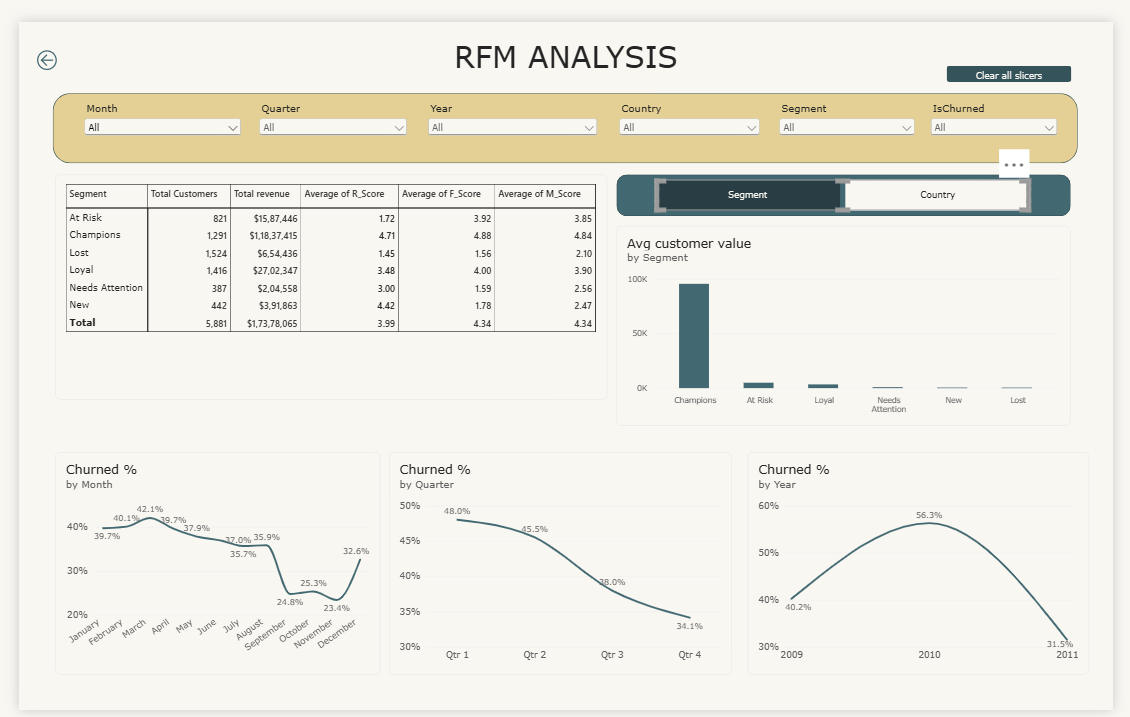

Layout of this report page (visuals, bound fields, positions):
{"tool":"powerbi","page":{"name":"RFM Analysis","canvas":[1750,1100],"ordinal":1},"visuals":[{"type":"shape","box":[54,114,1640,112],"z":0},{"type":"lineChart","fields":{"Category":["Sheet1.InvoiceDate.Variation.Date Hierarchy.Quarter"],"Y":["Sheet1.Churned %"]},"box":[592,688,548,356],"z":0,"group":"g1"},{"type":"shape","box":[956.7,243.3,726.7,66.7],"z":1000},{"type":"lineChart","fields":{"Category":["Sheet1.InvoiceDate.Variation.Date Hierarchy.Month"],"Y":["Sheet1.Churned %"]},"box":[58,688,520,356],"z":1000,"group":"g1"},{"type":"slicer","fields":{"Values":["Sheet1.InvoiceDate.Variation.Date Hierarchy.Quarter"]},"box":[380,128,246,84],"z":2000},{"type":"lineChart","fields":{"Category":["Sheet1.InvoiceDate.Variation.Date Hierarchy.Year"],"Y":["Sheet1.Churned %"]},"box":[1166,688,546,356],"z":2000,"group":"g1"},{"type":"slicer","fields":{"Values":["Sheet1.InvoiceDate.Variation.Date Hierarchy.Month"]},"box":[100,128,260,84],"z":3000},{"type":"slicer","fields":{"Values":["Sheet1.InvoiceDate.Variation.Date Hierarchy.Year"]},"box":[650,128,280,84],"z":4000},{"type":"slicer","fields":{"Values":["Sheet1.Country"]},"box":[956,128,234,84],"z":5000},{"type":"slicer","fields":{"Values":["Sheet1.Segment"]},"box":[1212,128,226,60],"z":6000},{"type":"slicer","fields":{"Values":["Sheet1.IsChurned"]},"box":[1454,128,212,60],"z":7000},{"type":"group","id":"g1","title":"Customer","box":[58,688,1654,356],"z":8000},{"type":"textbox","box":[352,26,1046,70],"z":11000},{"type":"actionButton","box":[1484,70,200,26],"z":12000},{"type":"actionButton","box":[0,26.2,90,70],"z":13000},{"type":"columnChart","fields":{"Category":["Sheet1.Segment"],"Y":["Sheet1.Avg customer value"]},"box":[956.7,325,726.7,320],"z":14000},{"type":"pivotTable","title":"Matrix by customers","fields":{"Rows":["Sheet1.Segment"],"Values":["Sheet1.Total Customers","Sheet1.Total revenue","Avg(Sheet1.R_Score)","Avg(Sheet1.F_Score)","Avg(Sheet1.M_Score)"]},"box":[58.3,243.3,883.3,360],"z":15000},{"type":"columnChart","title":"Avg  by Country","fields":{"Category":["Sheet1.Country"],"Y":["Sheet1.Avg customer value"]},"box":[941.7,325,751.7,363.3],"z":16000},{"type":"pivotTable","title":"Matrix by country","fields":{"Rows":["Sheet1.Country"],"Values":["Sheet1.Total Customers","Sheet1.Total revenue","Avg(Sheet1.R_Score)","Avg(Sheet1.F_Score)","Avg(Sheet1.M_Score)"]},"box":[71.7,243.3,858.3,371.7],"z":17000},{"type":"bookmarkNavigator","box":[1018.3,251.7,600,50],"z":17001}]}

Visuals, with their boxes in screenshot pixels (x1, y1, x2, y2), scaled from the page's 1750x1100 canvas onto the 1130x717 screenshot:
shape: Rect(35, 74, 1094, 147)
lineChart - Sheet1.InvoiceDate.Variation.Date Hierarchy.Quarter x Sheet1.Churned %: Rect(382, 448, 736, 680)
shape: Rect(618, 159, 1087, 202)
lineChart - Sheet1.InvoiceDate.Variation.Date Hierarchy.Month x Sheet1.Churned %: Rect(37, 448, 373, 680)
slicer - Sheet1.InvoiceDate.Variation.Date Hierarchy.Quarter: Rect(245, 83, 404, 138)
lineChart - Sheet1.InvoiceDate.Variation.Date Hierarchy.Year x Sheet1.Churned %: Rect(753, 448, 1105, 680)
slicer - Sheet1.InvoiceDate.Variation.Date Hierarchy.Month: Rect(65, 83, 232, 138)
slicer - Sheet1.InvoiceDate.Variation.Date Hierarchy.Year: Rect(420, 83, 601, 138)
slicer - Sheet1.Country: Rect(617, 83, 768, 138)
slicer - Sheet1.Segment: Rect(783, 83, 929, 123)
slicer - Sheet1.IsChurned: Rect(939, 83, 1076, 123)
"Customer" group: Rect(37, 448, 1105, 680)
textbox: Rect(227, 17, 903, 63)
actionButton: Rect(958, 46, 1087, 63)
actionButton: Rect(0, 17, 58, 63)
columnChart - Sheet1.Segment x Sheet1.Avg customer value: Rect(618, 212, 1087, 420)
"Matrix by customers" pivotTable: Rect(38, 159, 608, 393)
"Avg  by Country" columnChart: Rect(608, 212, 1093, 449)
"Matrix by country" pivotTable: Rect(46, 159, 601, 401)
bookmarkNavigator: Rect(658, 164, 1045, 197)
